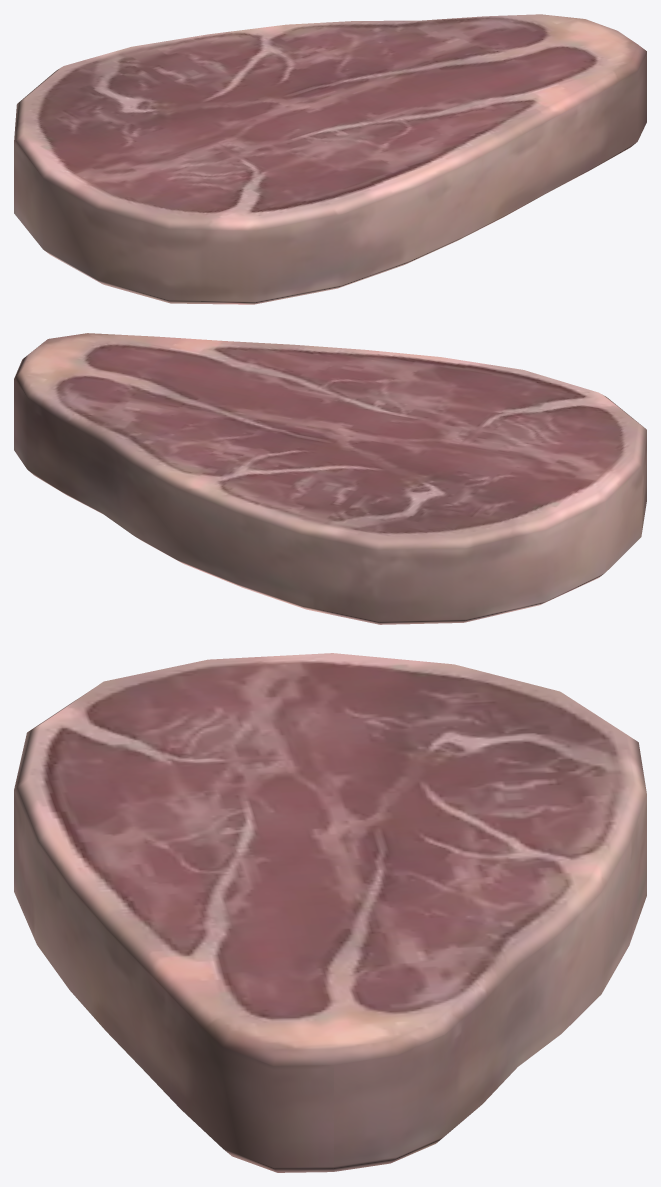
The picture shows the model from 3 angles, top to bottom: view 1: azimuth 30°, elevation 25°; view 2: azimuth 150°, elevation 25°; view 3: azimuth 270°, elevation 25°; orthographic projection. The views are drawn at different scales.
Parts seen in each view (by area): view 1: SM_Raw_Tough_Meat_01_LOD0; view 2: SM_Raw_Tough_Meat_01_LOD0; view 3: SM_Raw_Tough_Meat_01_LOD0.
Boxes of the visible parts, x1=… form: SM_Raw_Tough_Meat_01_LOD0: x1=14, y1=14, x2=646, y2=304; SM_Raw_Tough_Meat_01_LOD0: x1=14, y1=333, x2=646, y2=624; SM_Raw_Tough_Meat_01_LOD0: x1=14, y1=653, x2=646, y2=1172.
Size of the model in its own units: 0.3101 by 0.0435 by 0.2036.
1 material, 1 textured.
